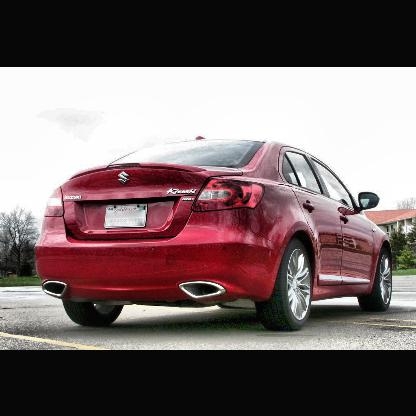Suzuki Kizashi Sedan 2012: (29, 132, 395, 337)
